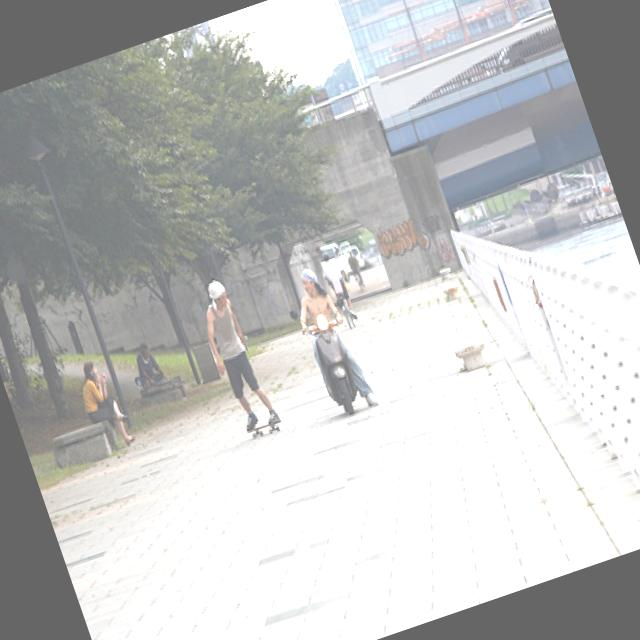Vehicle: (288, 295, 368, 422)
